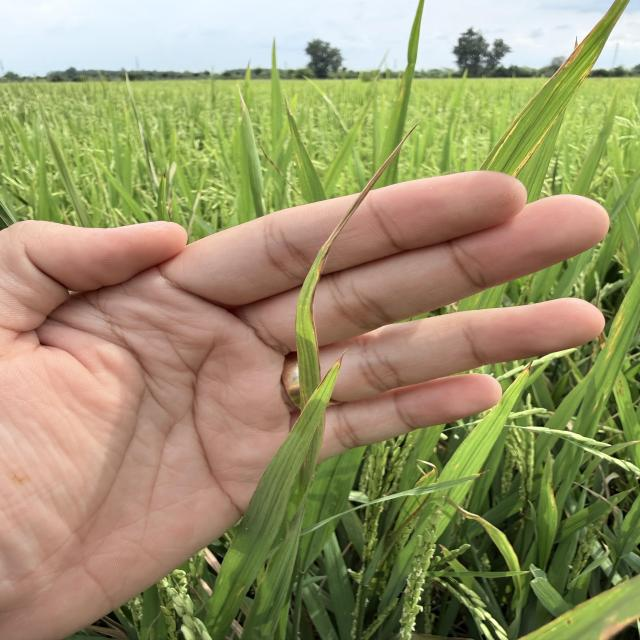Chay bia la: (307, 123, 416, 353)
